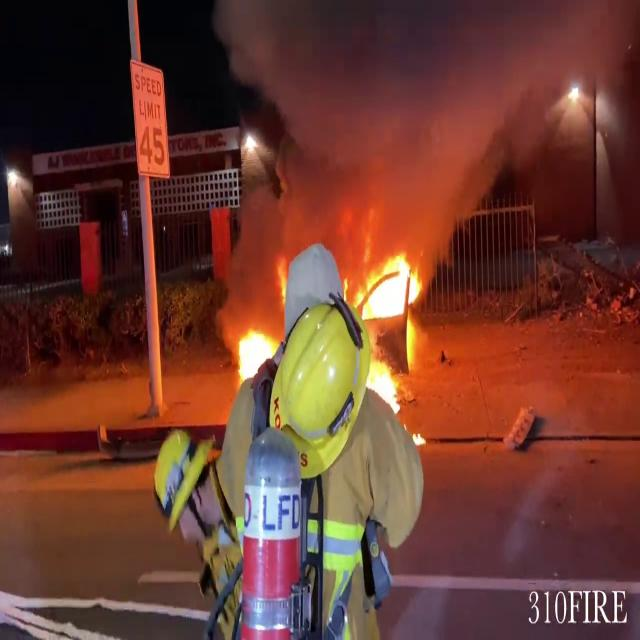Fire: (352, 248, 428, 326), (228, 317, 280, 383)
Smoke: (218, 0, 606, 256)
